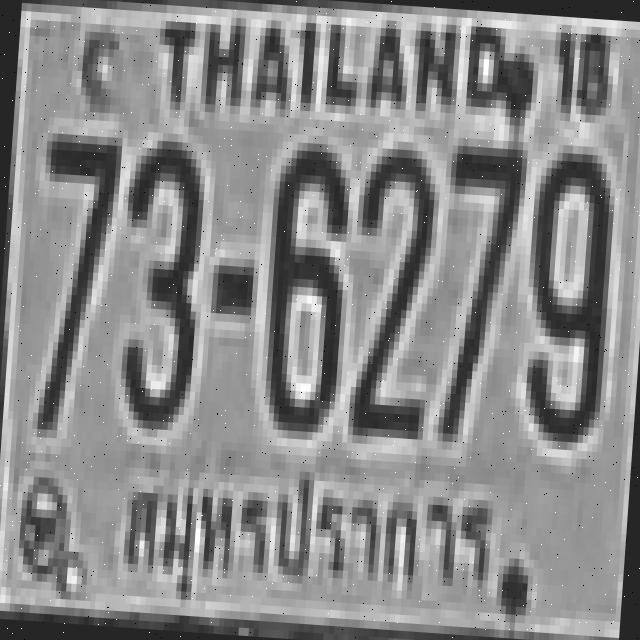2: (345, 139, 435, 439)
3: (110, 130, 205, 423)
6: (258, 133, 348, 424)
7: (428, 136, 522, 437), (28, 128, 118, 428)
9: (518, 142, 613, 436)
SamutPrakan: (106, 446, 507, 616)
